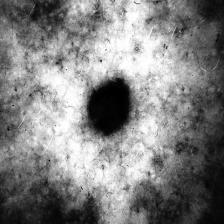Benign Marking or Mole: (88, 80, 128, 138)
